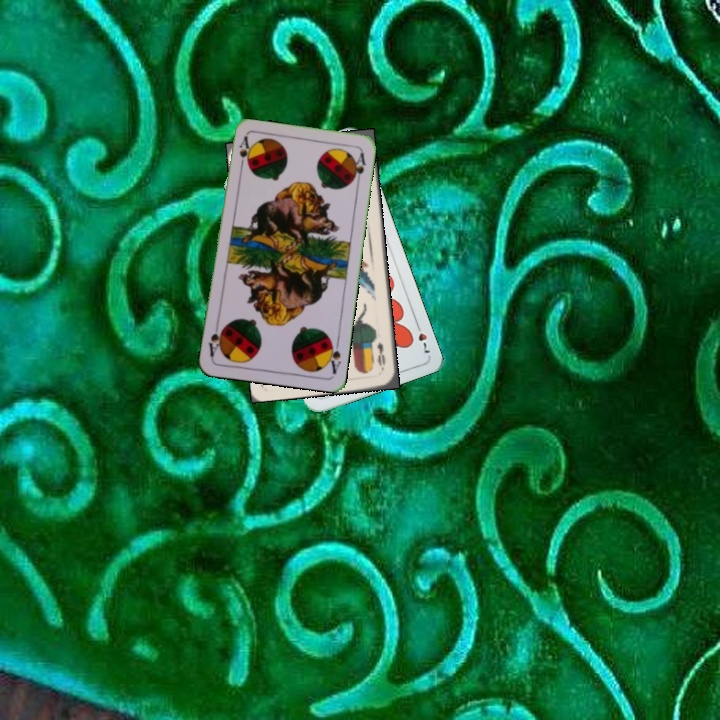EO: (373, 338, 388, 373)
H7: (412, 318, 432, 356)
SA: (323, 335, 343, 376), (235, 133, 251, 173)
